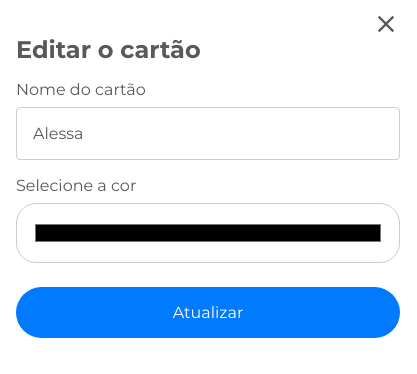
Test case: EditSettings component › should display error message when name input is empty to card
Step 1. Clear the field with test id "testcartao" → point(208, 134), box 16,107 -> 400,160
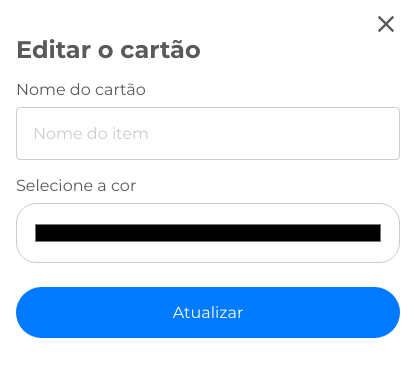
Step 2. Click the button "Atualizar" → point(208, 312), box 16,287 -> 400,338
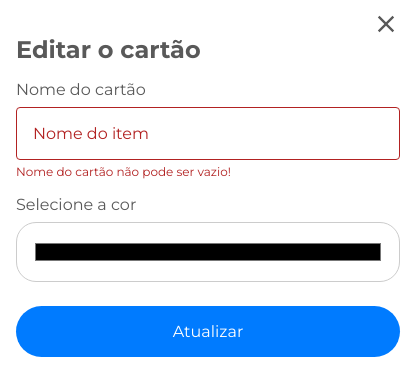
Expected: the text "Nome do cartão não pode ser vazio!" is shown, 16,164 -> 231,179
